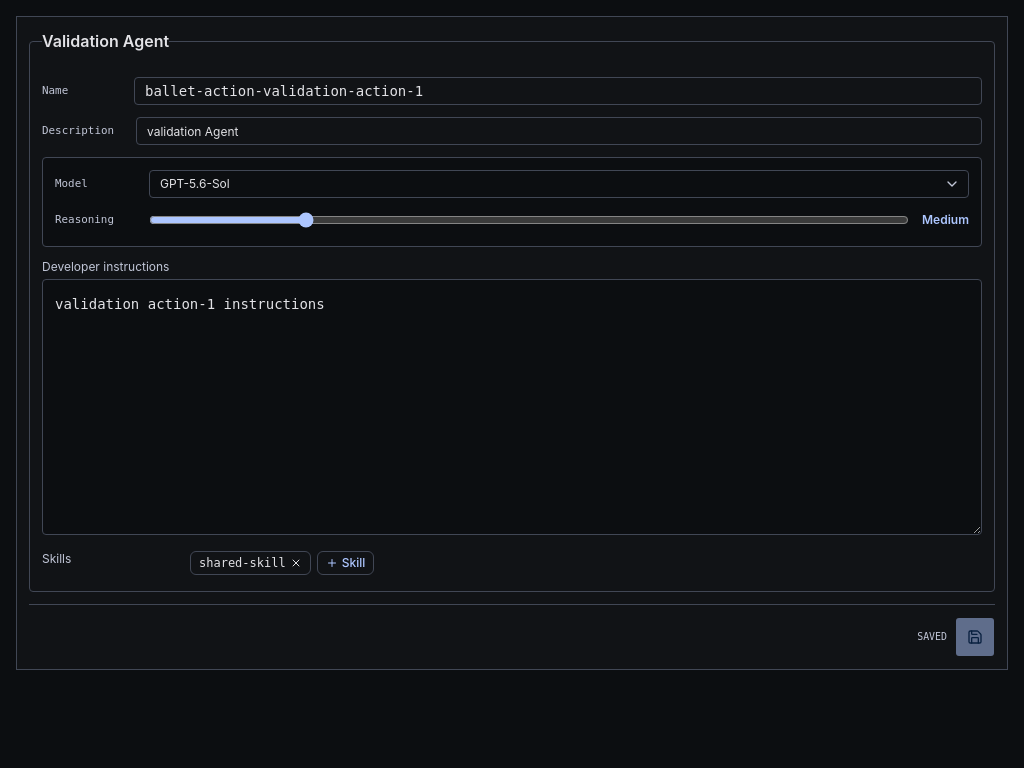
Test: orchestration Configure editors › hides legacy models from Action authoring
Click the dropdown named "Model". click: (195,184)
box: [149,170,969,198]
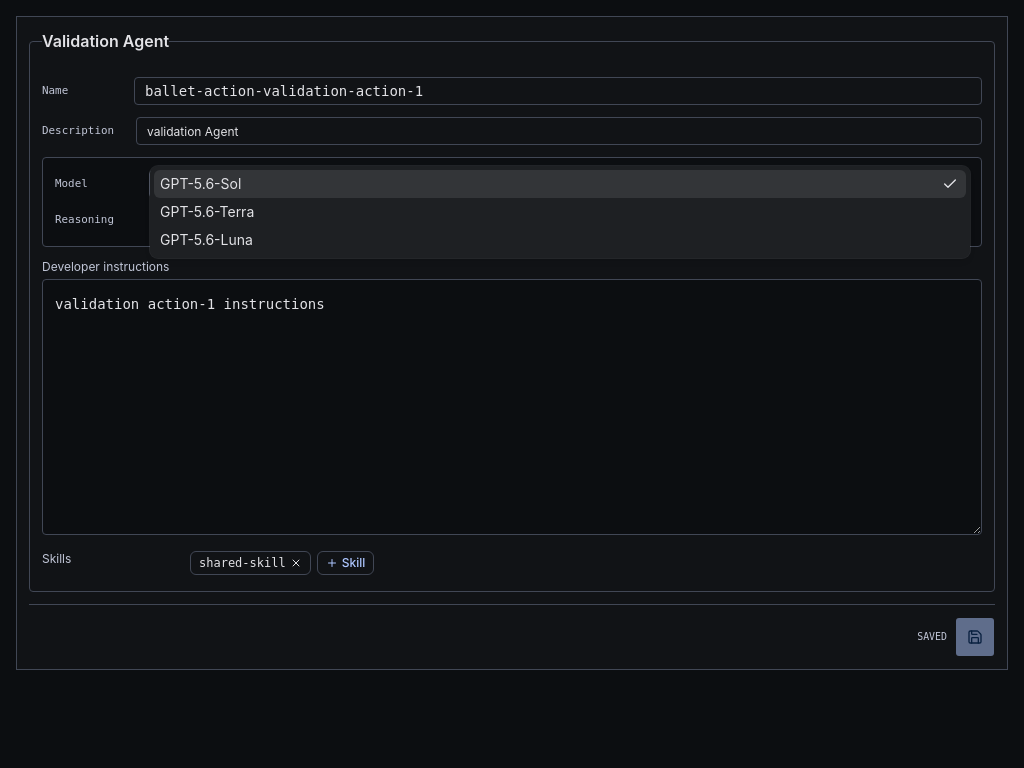
Expected: the options read "GPT-5.6-Sol", "GPT-5.6-Terra", "GPT-5.6-Luna", in this order, [154,170,966,198]; [160,203,254,220]; [160,231,253,248]
